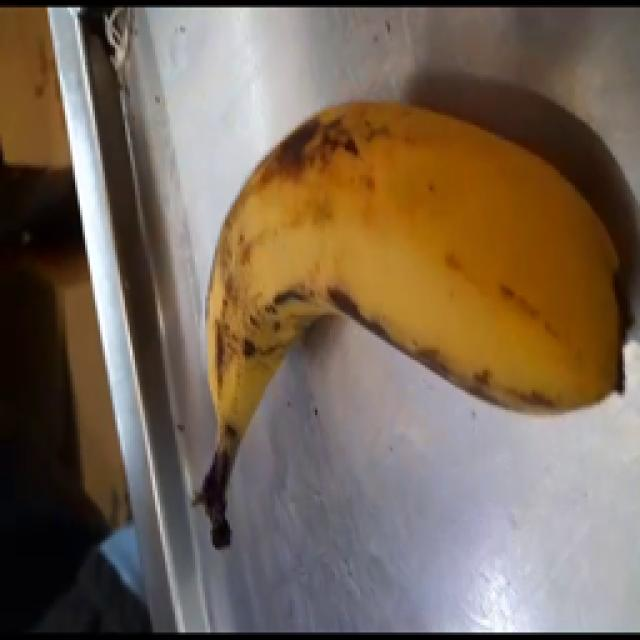Rotten_Banana: (163, 87, 640, 534)
